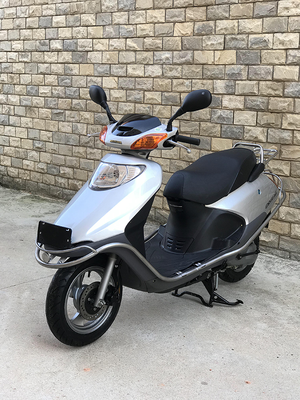motor: (22, 96, 279, 343)
